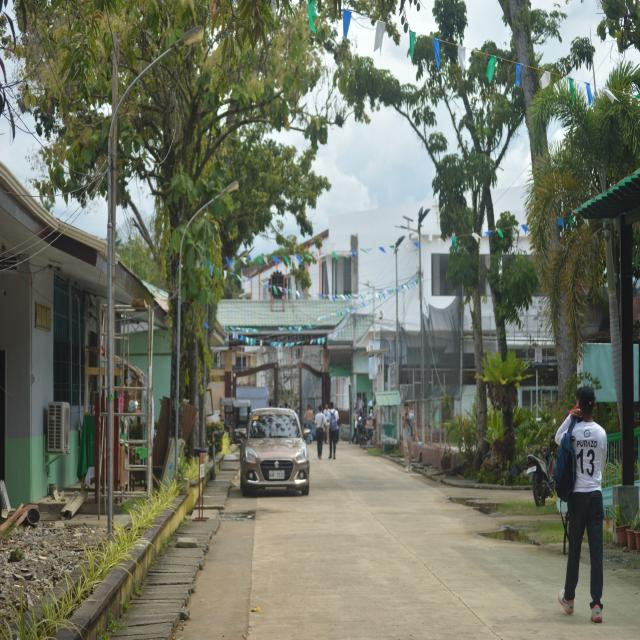person: (555, 387, 606, 622), (403, 403, 415, 472), (315, 406, 327, 459), (328, 402, 339, 459), (304, 405, 313, 431)
